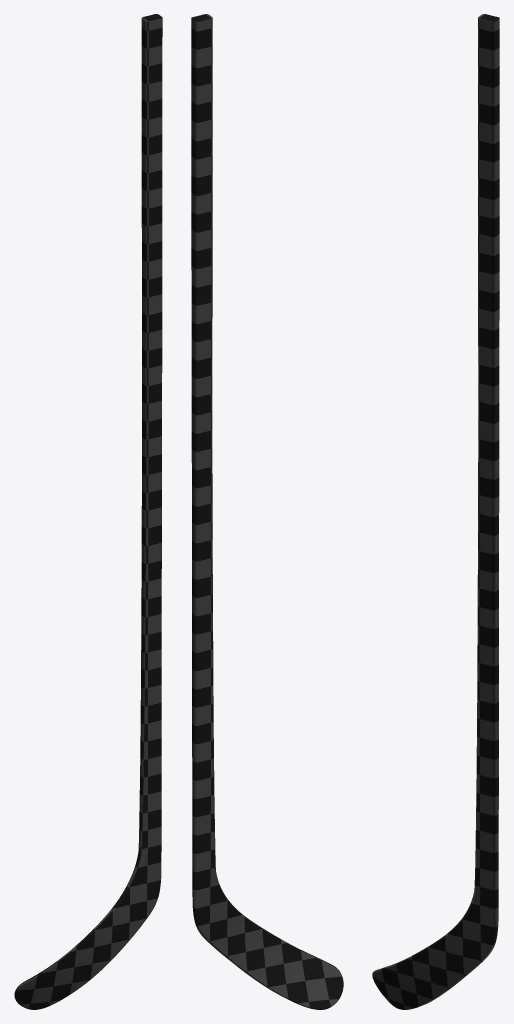
Rendered from P90TM-SBT.glb.
3 renders of one model, left to right at view 1: azimuth 30°, elevation 25°; view 2: azimuth 210°, elevation 25°; view 3: azimuth 330°, elevation 25°, orthographic. The views are drawn at different scales.
Visible parts, largest first — view 1: geometry_0; view 2: geometry_0; view 3: geometry_0.
Boxes of the visible parts, x1,y1,x2,y2 form: geometry_0: (14, 14, 162, 1009); geometry_0: (191, 14, 343, 1009); geometry_0: (372, 14, 499, 1009).
Bounding box in the file's own units: 233 × 1650 × 62.19.
1 material, 1 textured.
